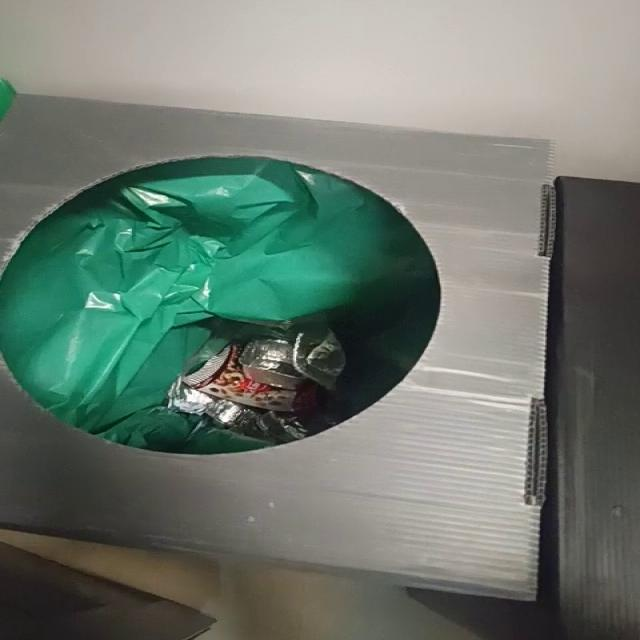metal: (239, 339, 304, 390)
